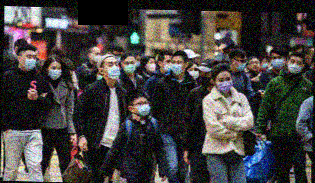with_mask: (215, 73, 234, 93), (103, 59, 121, 80), (21, 52, 38, 71), (134, 98, 151, 116), (287, 57, 303, 75), (47, 64, 62, 81), (170, 58, 185, 75), (270, 53, 285, 70), (198, 71, 212, 87), (122, 58, 136, 73), (186, 65, 200, 80), (90, 49, 102, 64), (235, 57, 247, 71), (145, 59, 157, 72), (111, 51, 124, 63), (162, 57, 172, 72), (259, 59, 268, 69)
without_mask: (248, 58, 260, 71)
